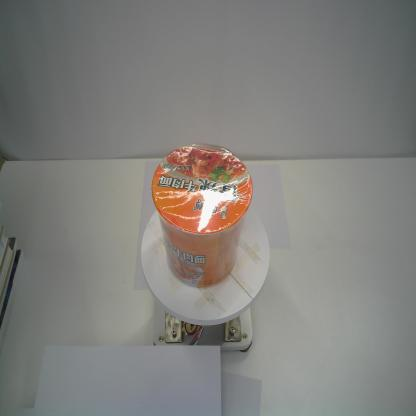Instant Noodles: (149, 141, 253, 290)
